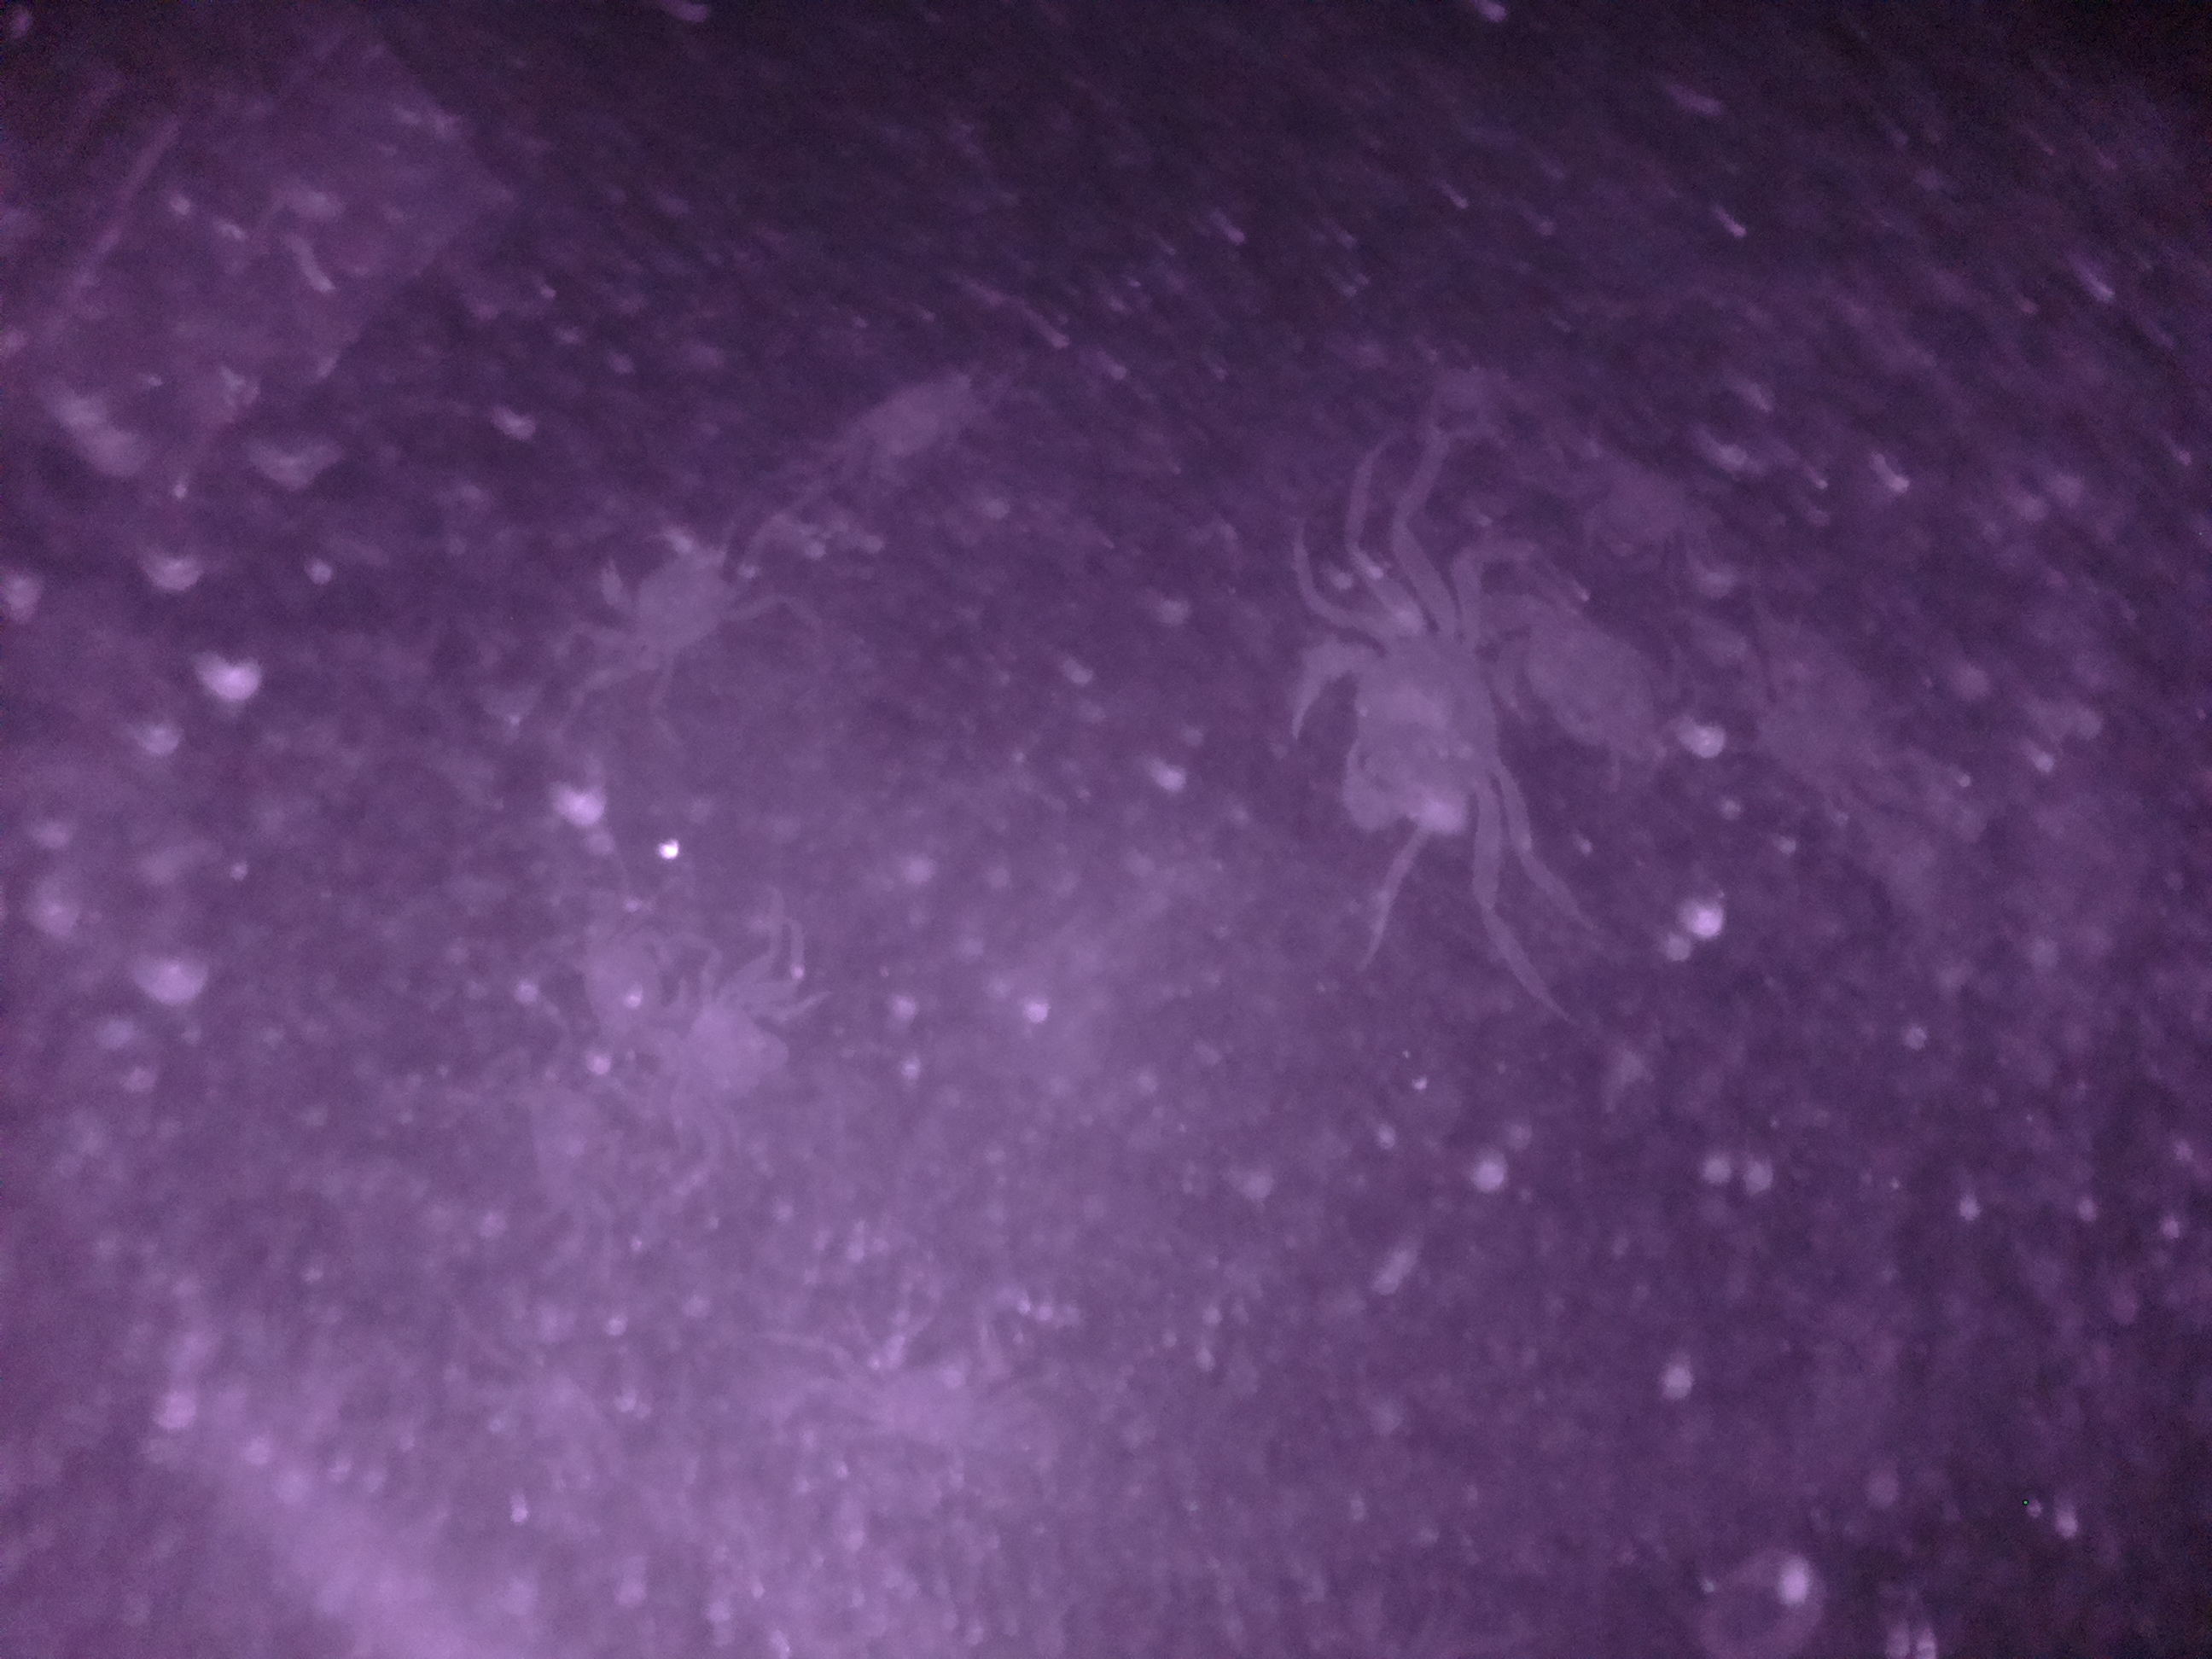Crab: (1268, 547, 1529, 908)
